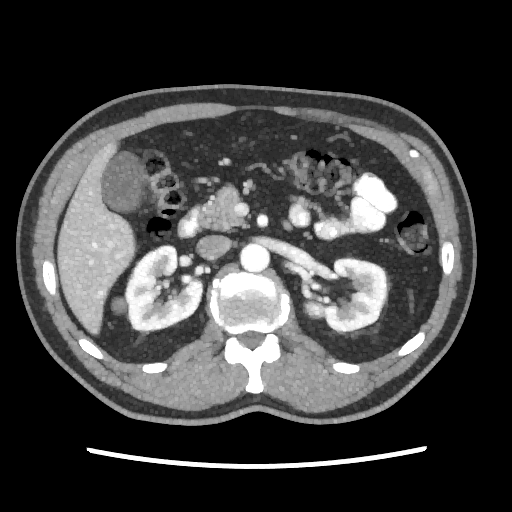Lesion: (109, 295, 132, 319)
